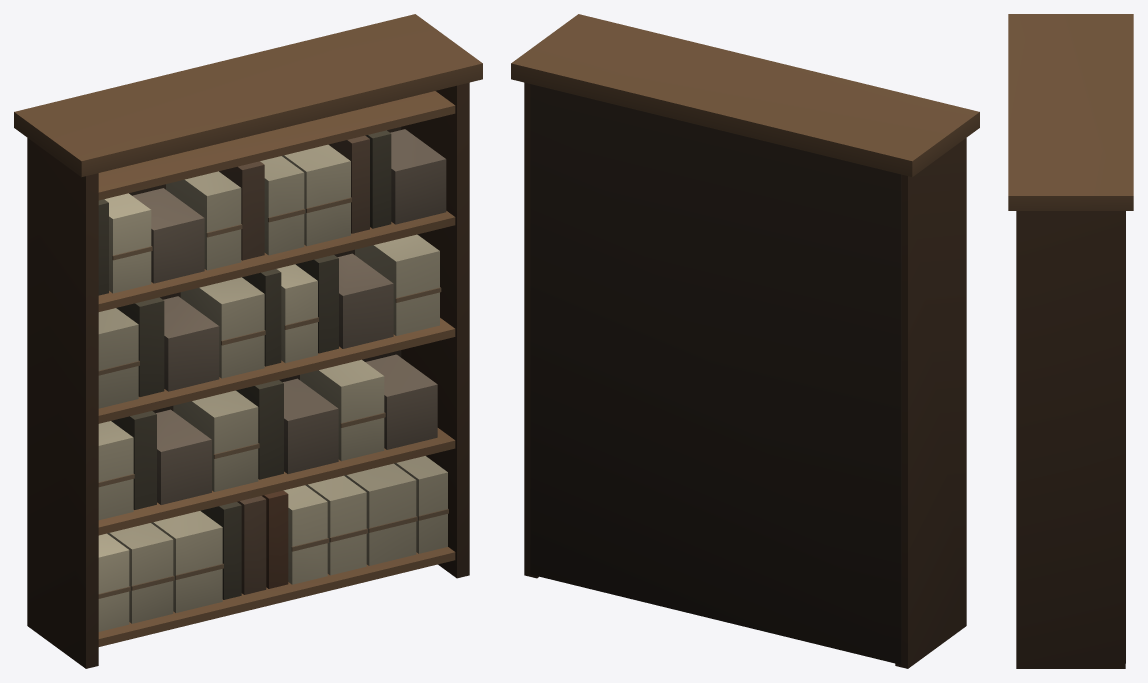
File: ph_int_office_shelf.glb
3 renders of one model, left to right at view 1: azimuth 30°, elevation 25°; view 2: azimuth 150°, elevation 25°; view 3: azimuth 270°, elevation 25°, orthographic. The views are drawn at different scales.
Parts seen in each view (by area): view 1: ph_int_office_shelf; view 2: ph_int_office_shelf; view 3: ph_int_office_shelf.
Boxes of the visible parts, <box> form: ph_int_office_shelf: <box>14,14,482,668</box>; ph_int_office_shelf: <box>511,14,979,668</box>; ph_int_office_shelf: <box>1008,14,1133,668</box>.
Bounding box in the file's own units: 1.58 × 1.93 × 0.46.
